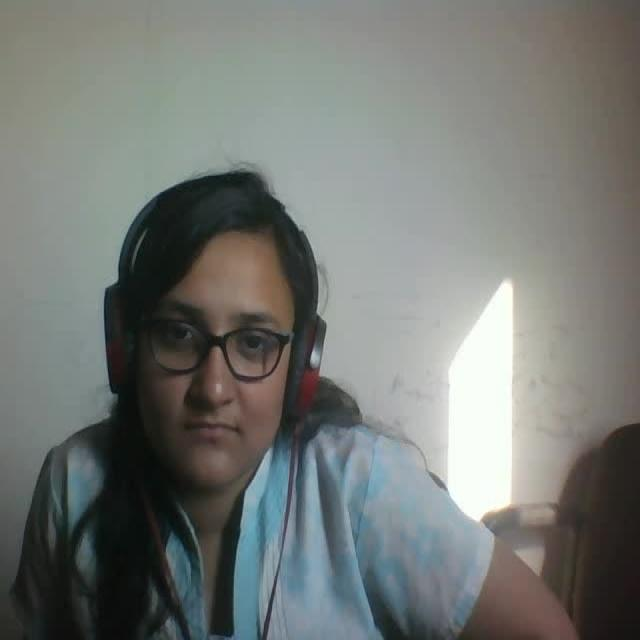Engaged: (99, 147, 359, 480)
